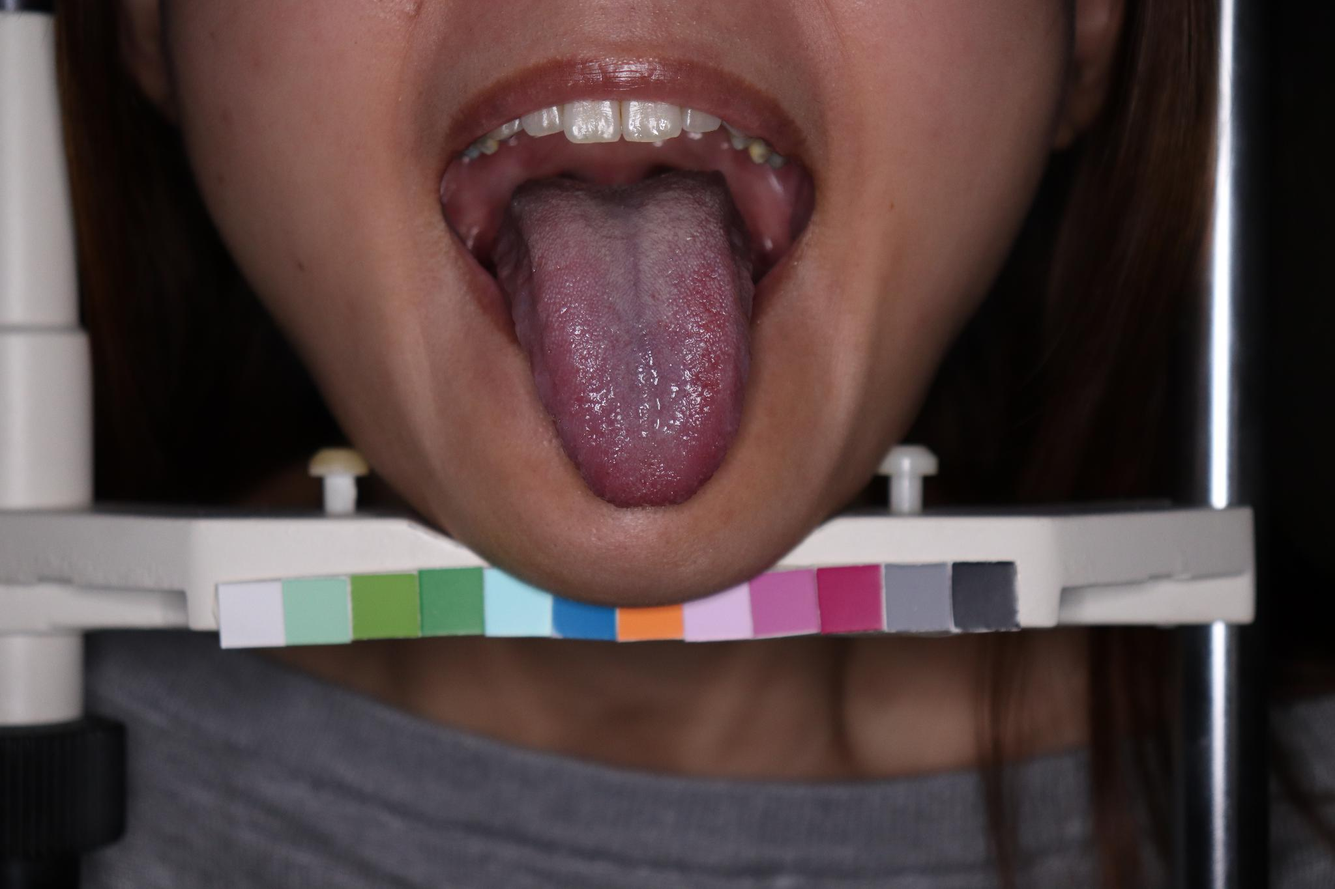baitaishe: (496, 165, 754, 507)
chihenshe: (496, 208, 557, 421)
zishe: (495, 165, 754, 507)
